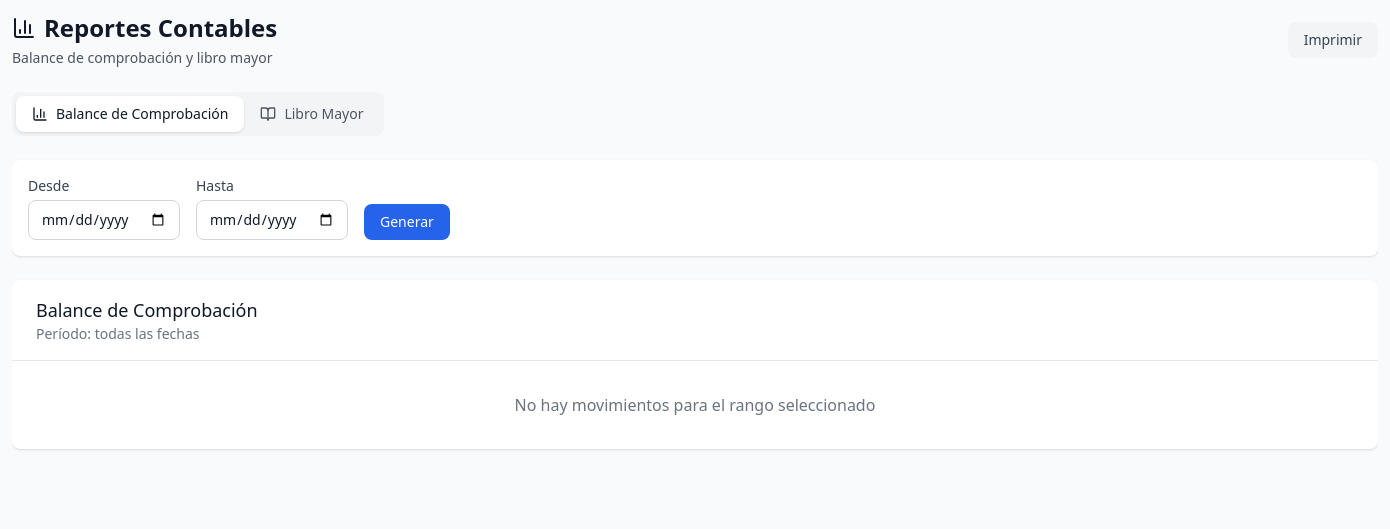
Test case: ReportingPage › shows error when report fails to load
Click the button "Generar".
click(407, 222)  # box [364,204,450,240]
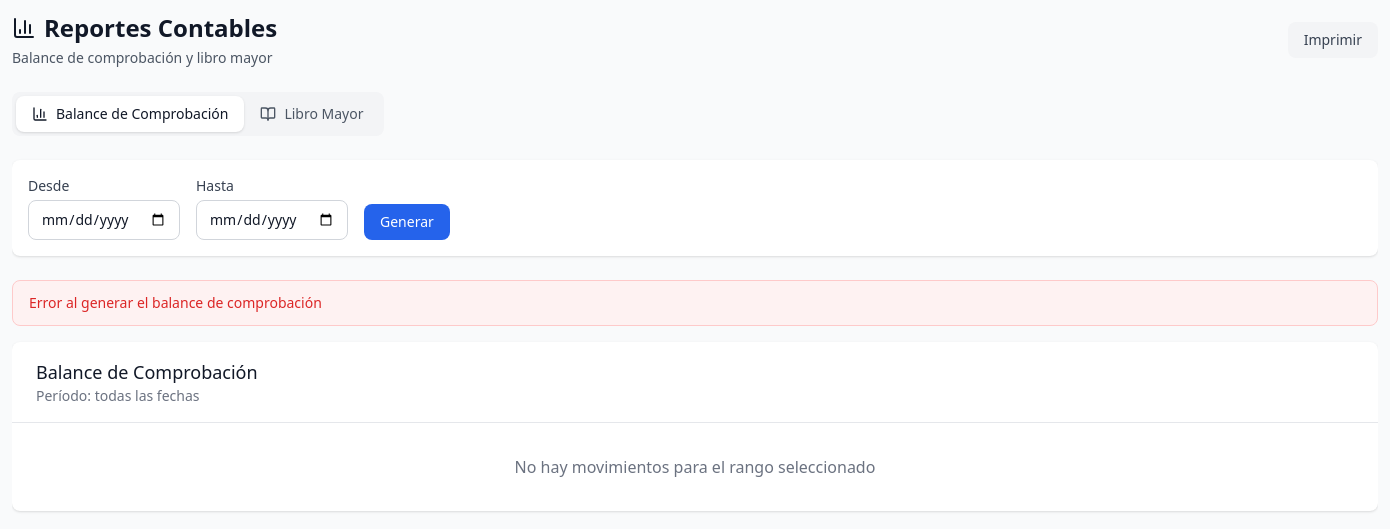
Result: the text "Error al generar el balance de comprobación" is shown at [12,280,1378,326]
